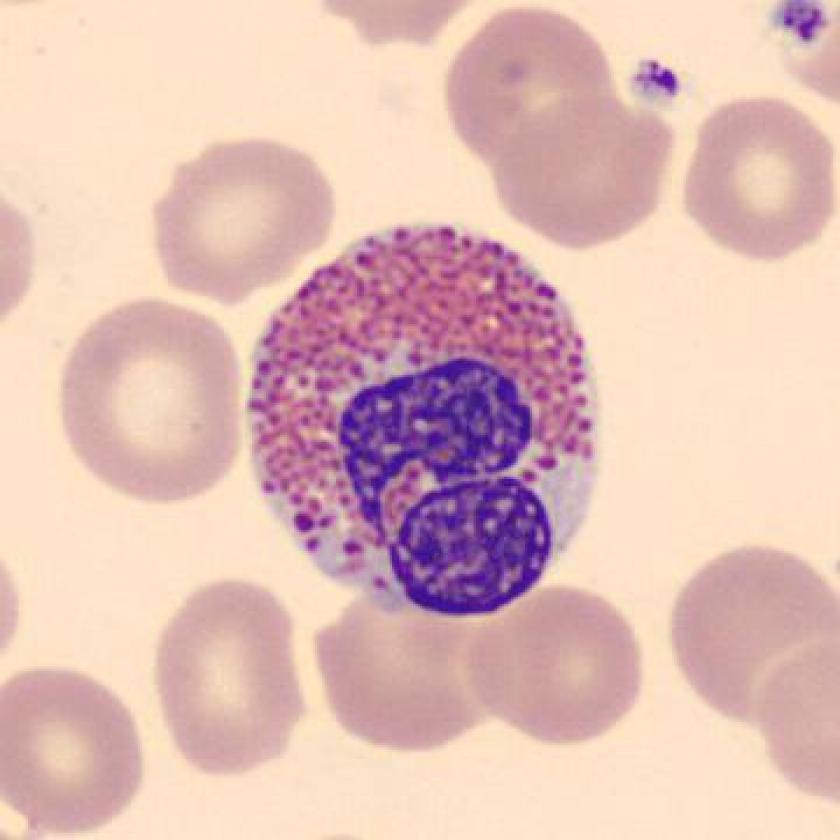eosinophil: (232, 212, 612, 635)
